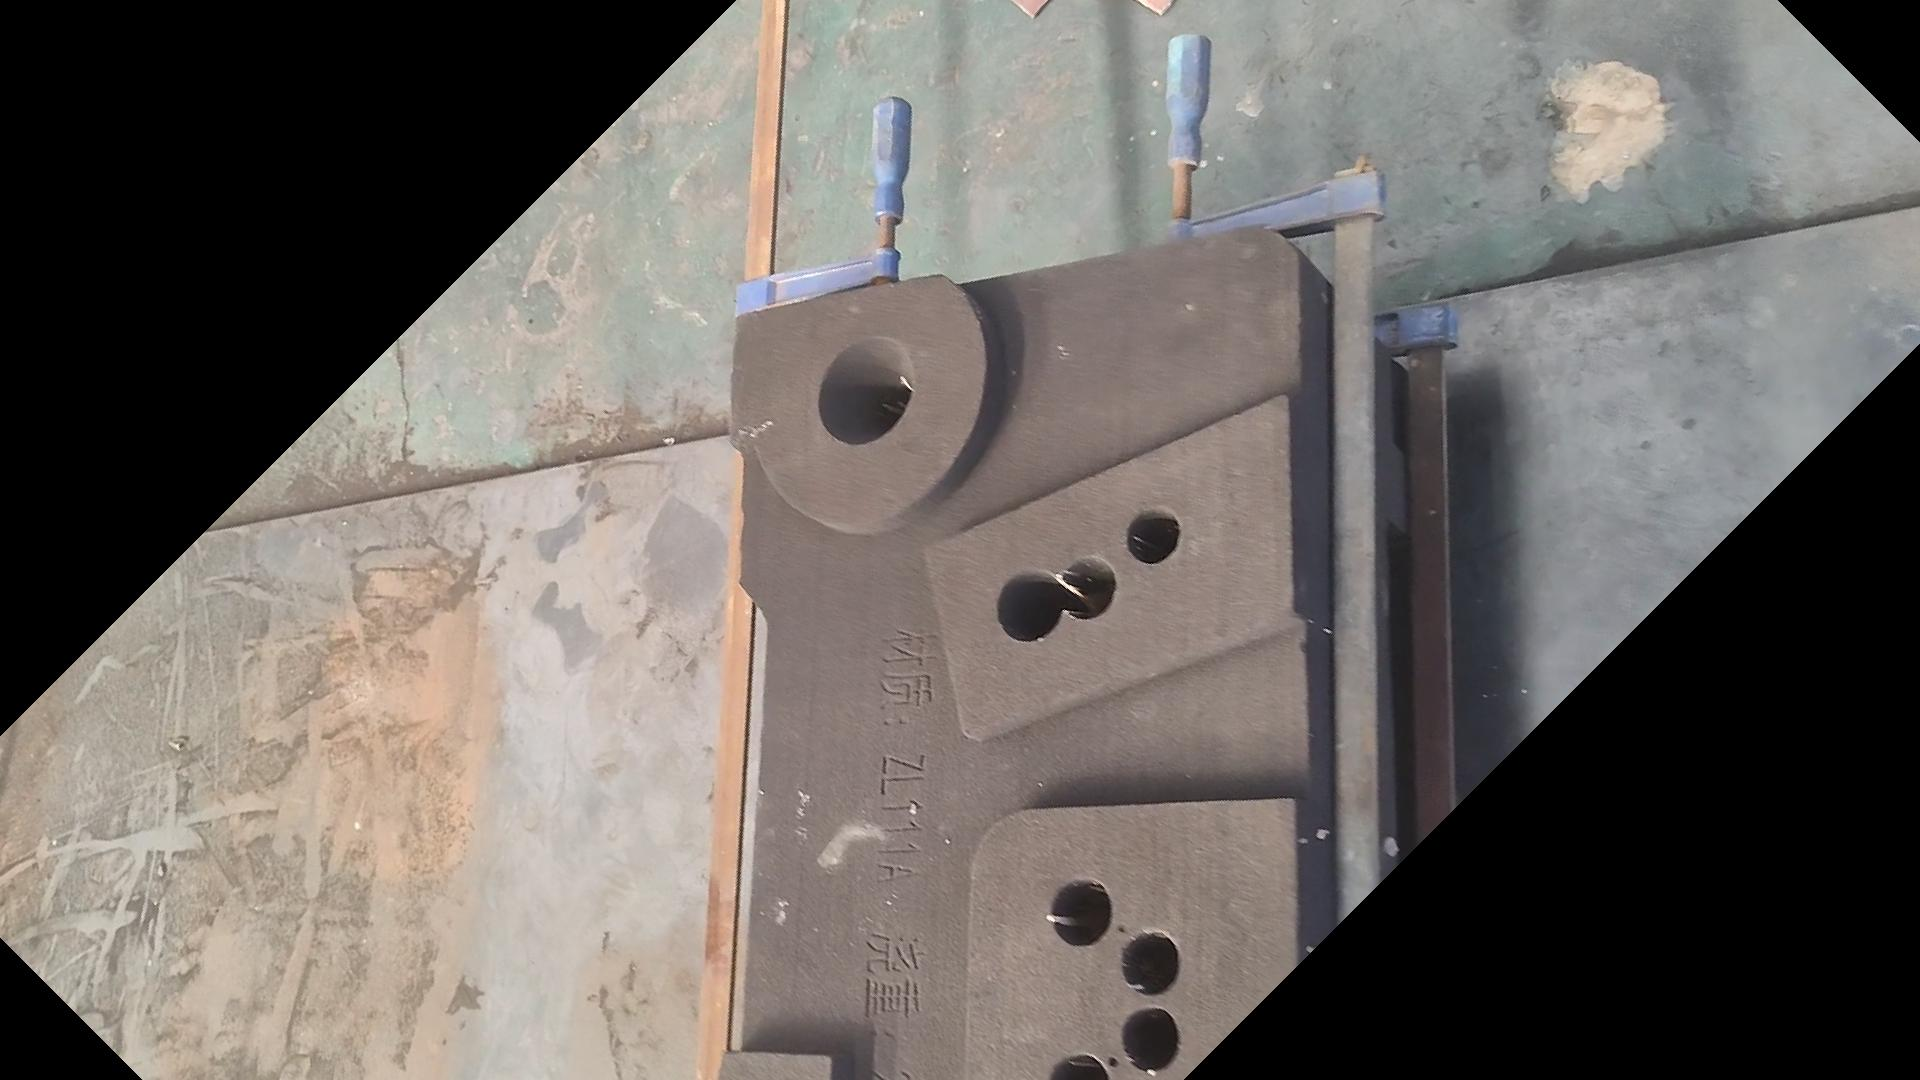pouring hole: (815, 335, 913, 446)
